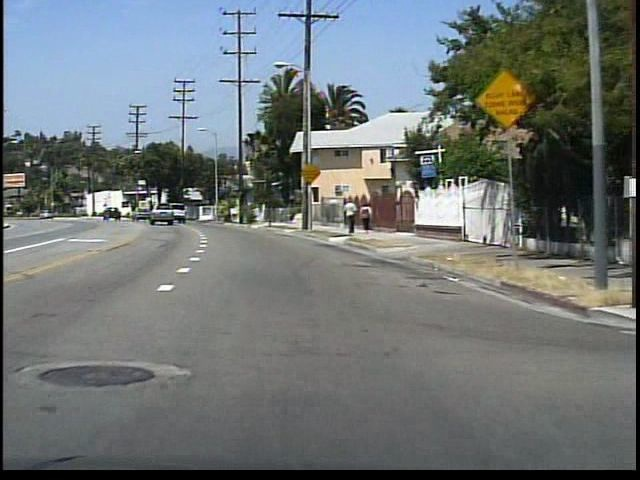person: (341, 197, 358, 238), (358, 201, 374, 234)
